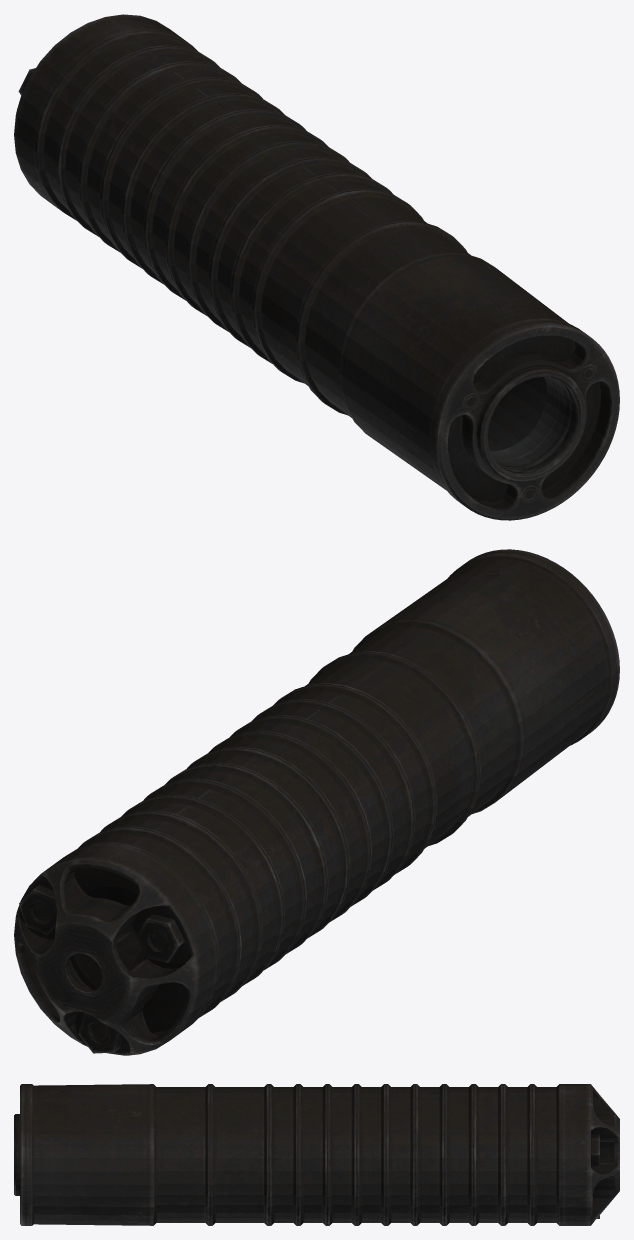
The picture shows the model from 3 angles, top to bottom: view 1: azimuth 30°, elevation 25°; view 2: azimuth 150°, elevation 25°; view 3: azimuth 270°, elevation 25°; orthographic projection. The views are drawn at different scales.
Parts seen in each view (by area): view 1: TW_5e208b9842457a4a7a33d074_PZ_Import; view 2: TW_5e208b9842457a4a7a33d074_PZ_Import; view 3: TW_5e208b9842457a4a7a33d074_PZ_Import.
Boxes of the visible parts, <box> form: TW_5e208b9842457a4a7a33d074_PZ_Import: <box>14,14,619,520</box>; TW_5e208b9842457a4a7a33d074_PZ_Import: <box>14,549,619,1055</box>; TW_5e208b9842457a4a7a33d074_PZ_Import: <box>14,1084,619,1225</box>.
Bounding box in the file's own units: 0.0283 × 0.1208 × 0.0283.
Materials: 1 (1 with a texture image).
